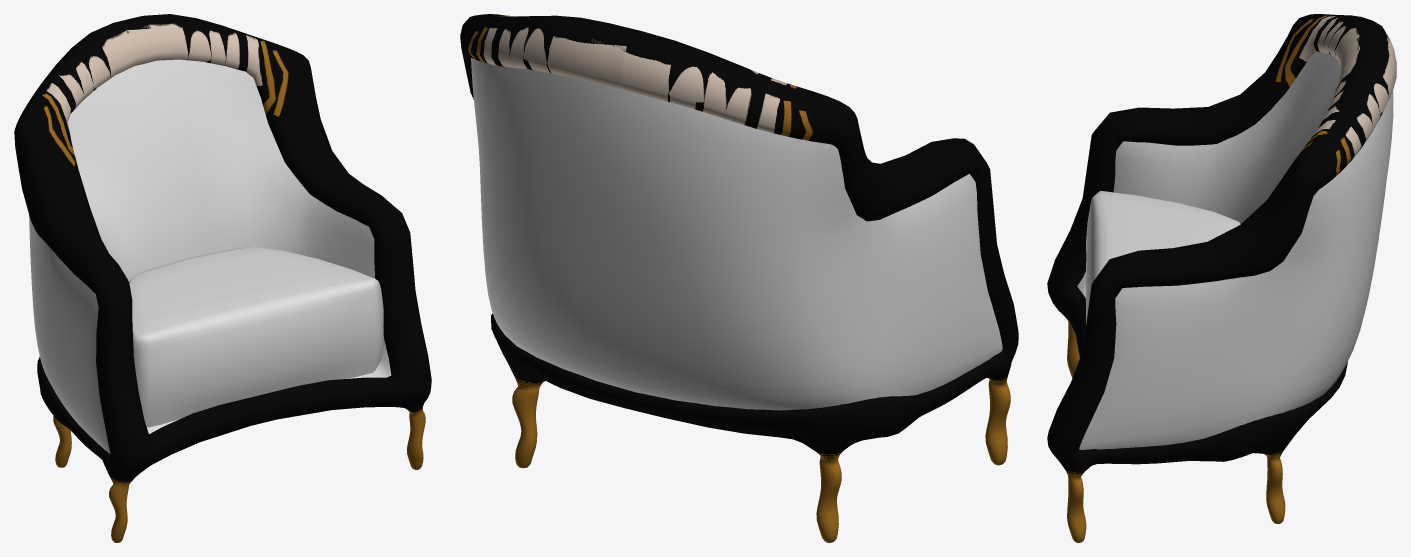
The model's file is Chair.fbx.
3 views of the same model, side by side, from view 1: azimuth 30°, elevation 25°; view 2: azimuth 150°, elevation 25°; view 3: azimuth 270°, elevation 25° (orthographic). The views are drawn at different scales.
Parts seen in each view (by area): view 1: Poltrona_Encosto, Poltrona_Estofado, Poltrona_Almofoda; view 2: Poltrona_Estofado, Poltrona_Encosto; view 3: Poltrona_Estofado, Poltrona_Encosto, Poltrona_Almofoda.
Boxes of the visible parts, x1,y1,x2,y2 form: Poltrona_Encosto: (14,14,431,542); Poltrona_Estofado: (29,59,391,453); Poltrona_Almofoda: (129,247,384,427); Poltrona_Estofado: (471,58,1002,410); Poltrona_Encosto: (460,14,1018,542); Poltrona_Estofado: (1077,51,1393,449); Poltrona_Encosto: (1047,14,1396,542); Poltrona_Almofoda: (1086,190,1240,324).
Size of the model in its own units: 0.9345 by 1.09 by 0.8114.
